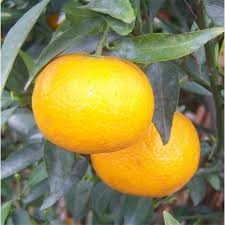orange: (30, 53, 154, 151), (87, 108, 200, 199)
